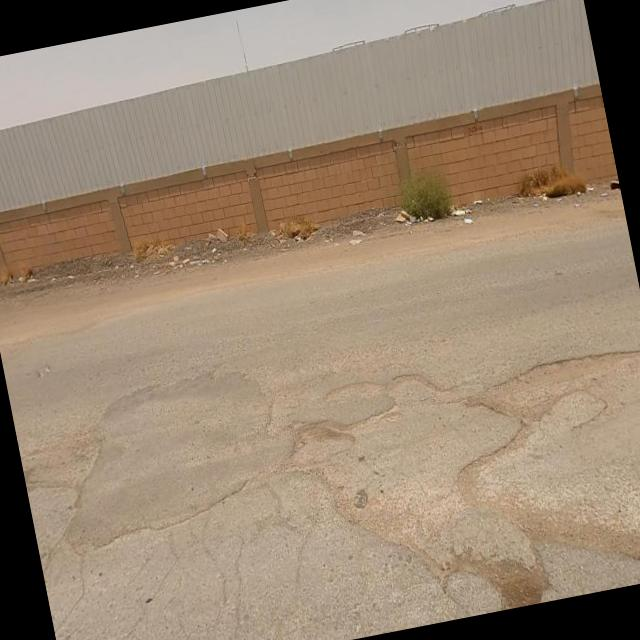debris: (246, 180, 342, 288), (420, 167, 518, 260), (366, 170, 443, 264), (320, 190, 389, 275), (550, 162, 626, 236), (180, 209, 256, 282), (500, 163, 571, 229), (146, 231, 202, 287)
